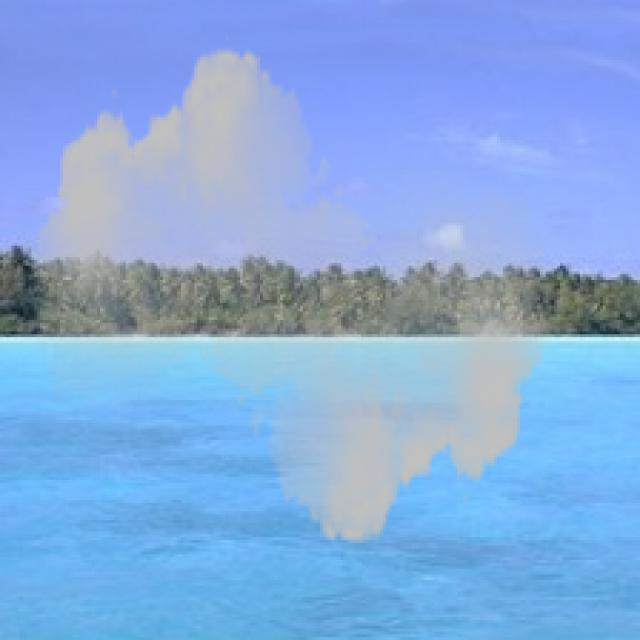smoke: (29, 31, 552, 560)
